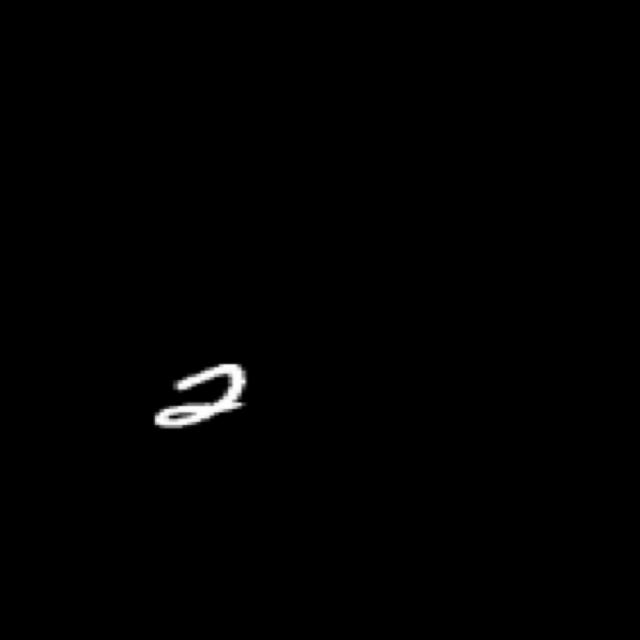two -2-: (142, 356, 268, 434)
